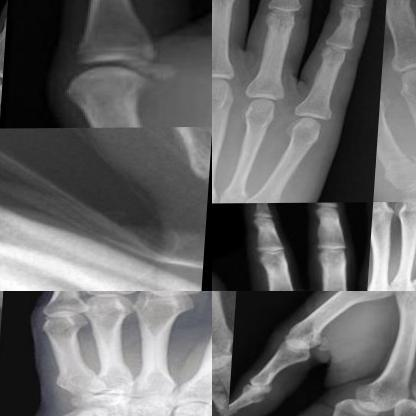fracture: (383, 150, 415, 188), (212, 372, 233, 415), (212, 188, 236, 203)
